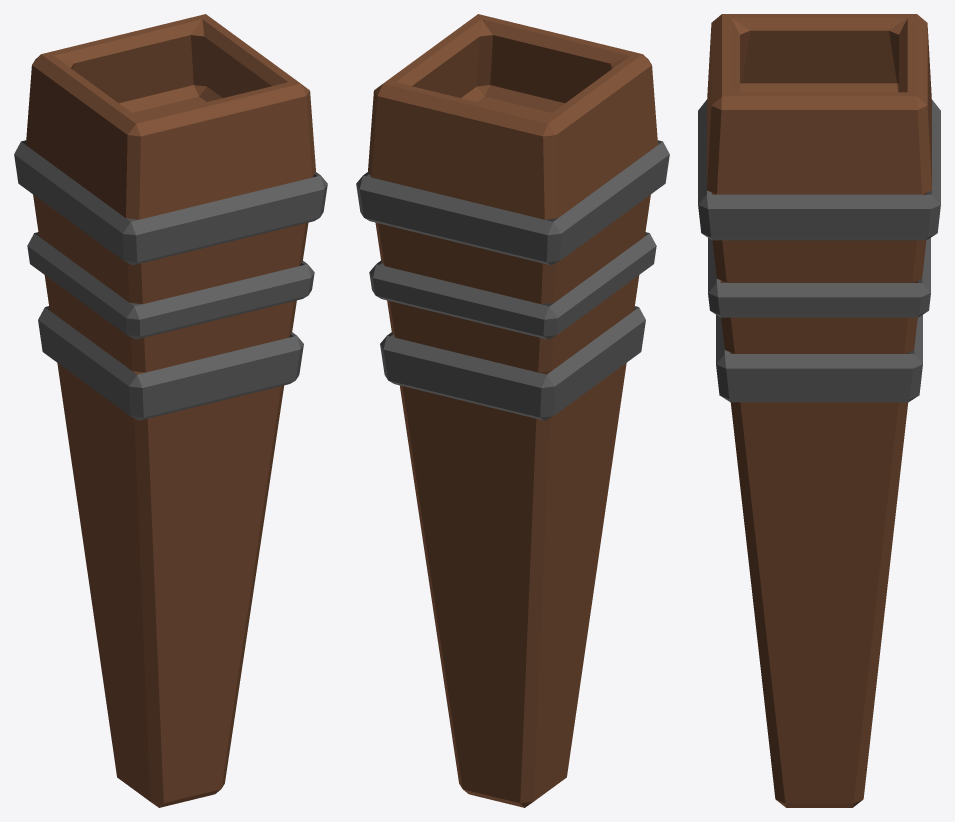
Rendered from Torcia.fbx.
The picture shows the model from 3 angles, left to right: view 1: azimuth 30°, elevation 25°; view 2: azimuth 150°, elevation 25°; view 3: azimuth 270°, elevation 25°; orthographic projection. The views are drawn at different scales.
Parts seen in each view (by area): view 1: Torcia; view 2: Torcia; view 3: Torcia.
Part boxes in pixels (box(x1,y1,x2,y2)): Torcia: box(14, 14, 327, 807); Torcia: box(356, 14, 669, 807); Torcia: box(698, 14, 940, 807).
Size of the model in its own units: 6 by 20.13 by 6.
